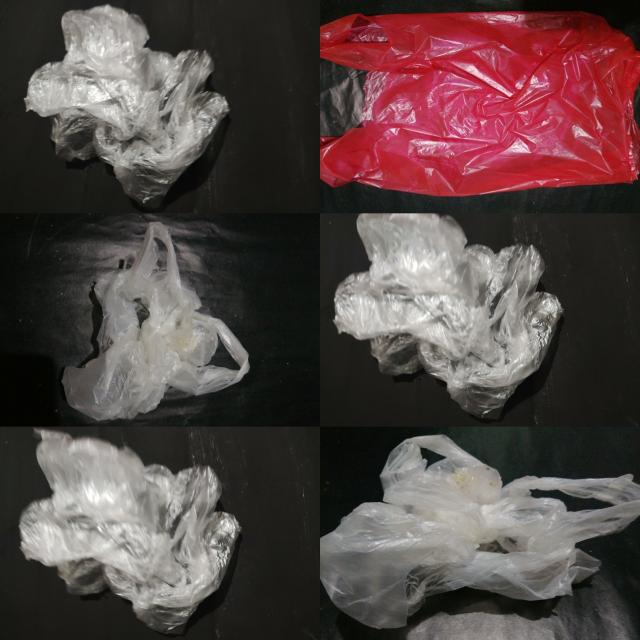Single-layer Plastic: (320, 435, 640, 628), (320, 12, 639, 196), (334, 214, 562, 418), (20, 430, 240, 633), (25, 5, 229, 206), (63, 222, 249, 420)
